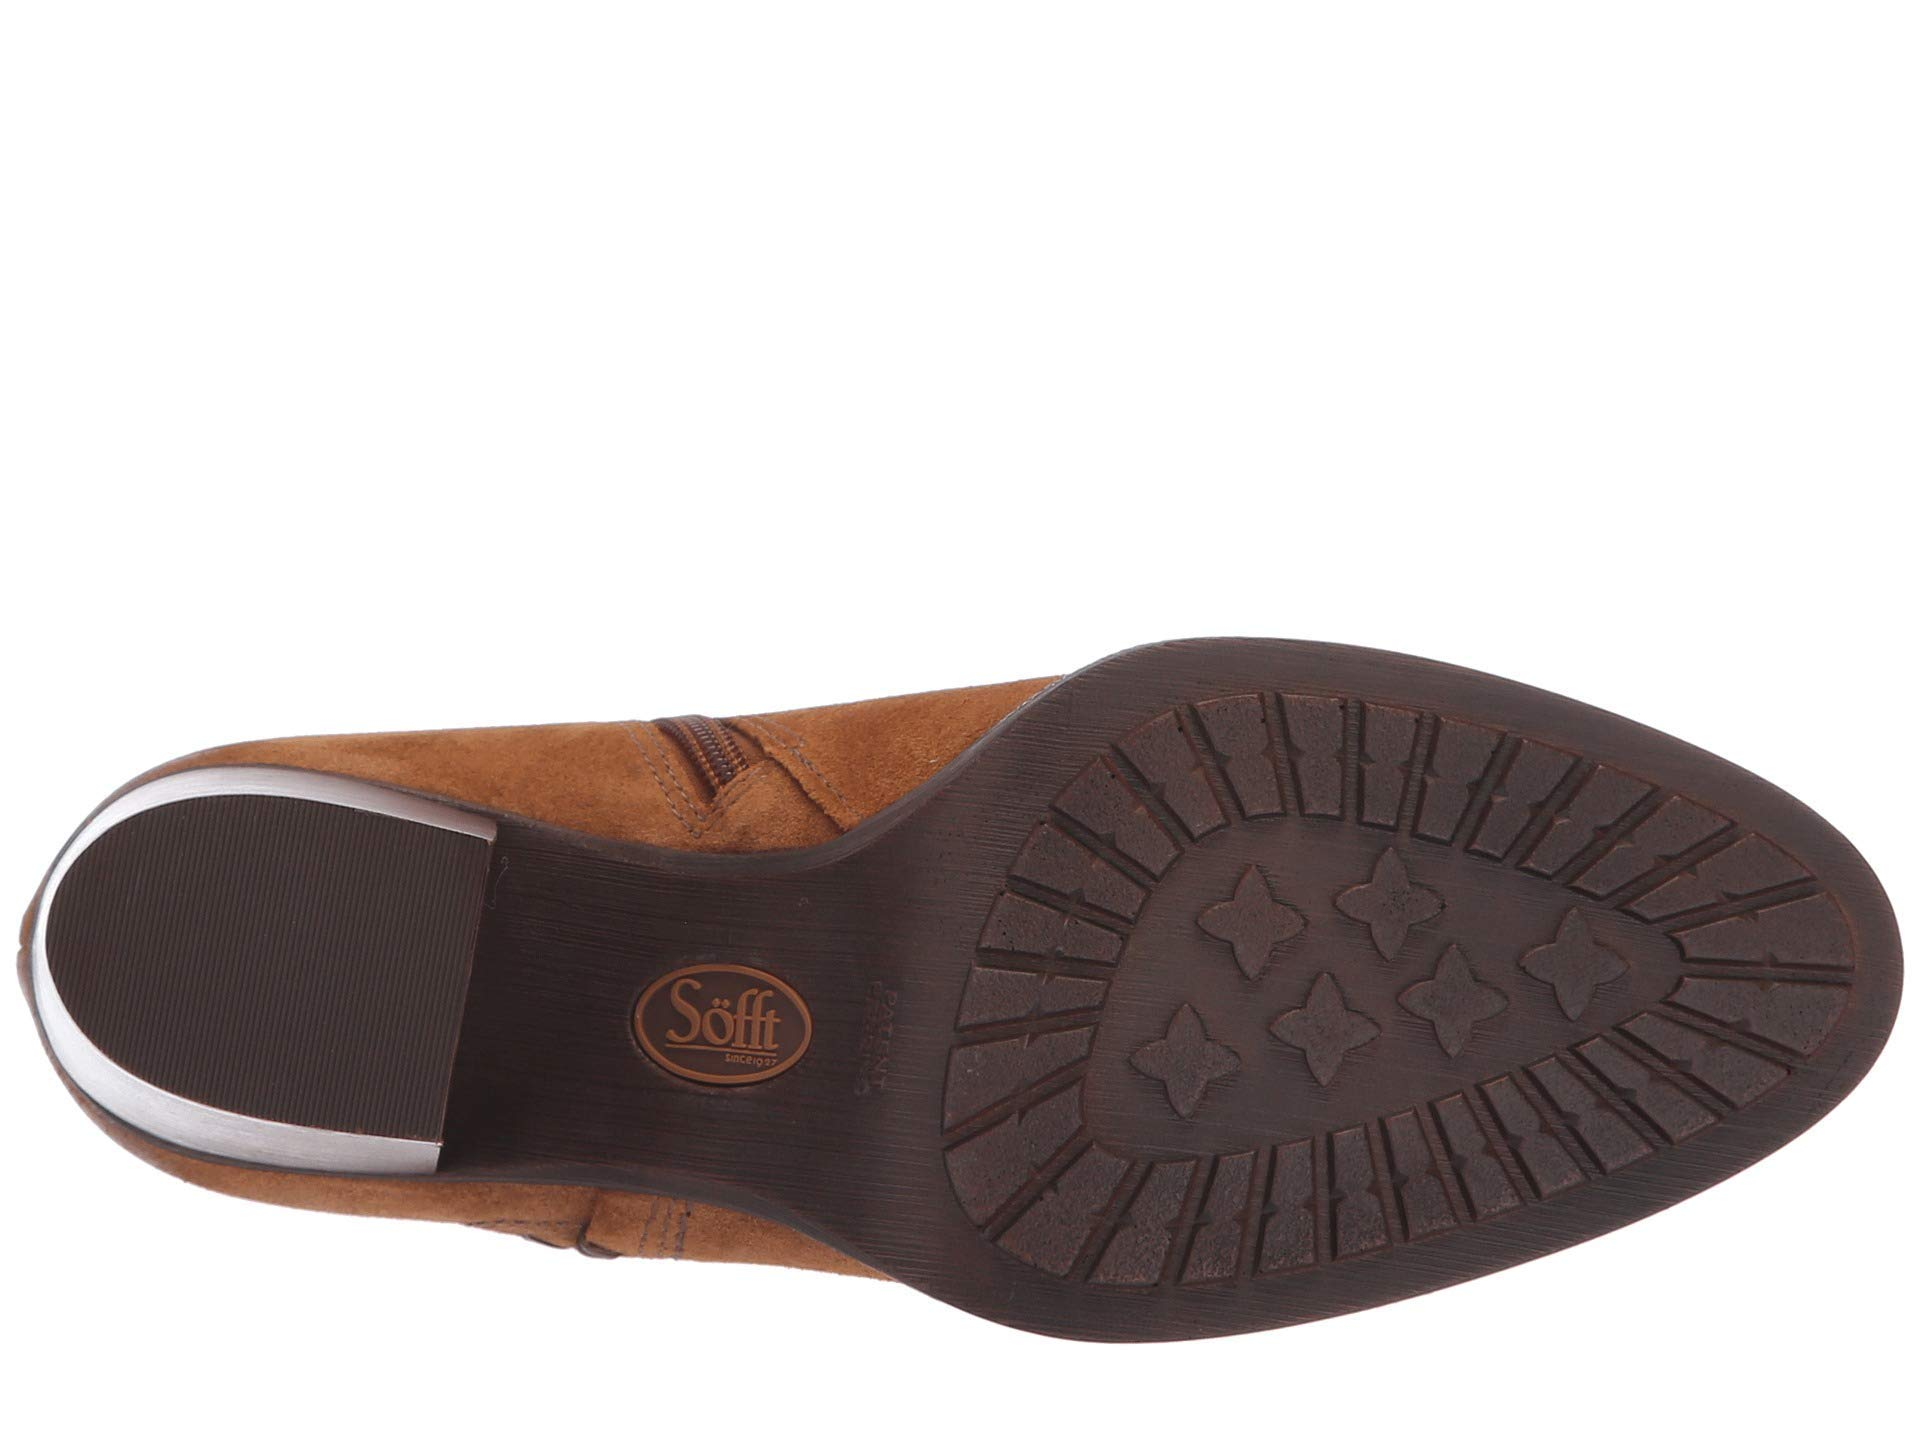circle: (609, 936, 850, 1124)
line: (609, 936, 850, 1124)
star: (1181, 849, 1503, 1088)
text: (609, 936, 850, 1124)
